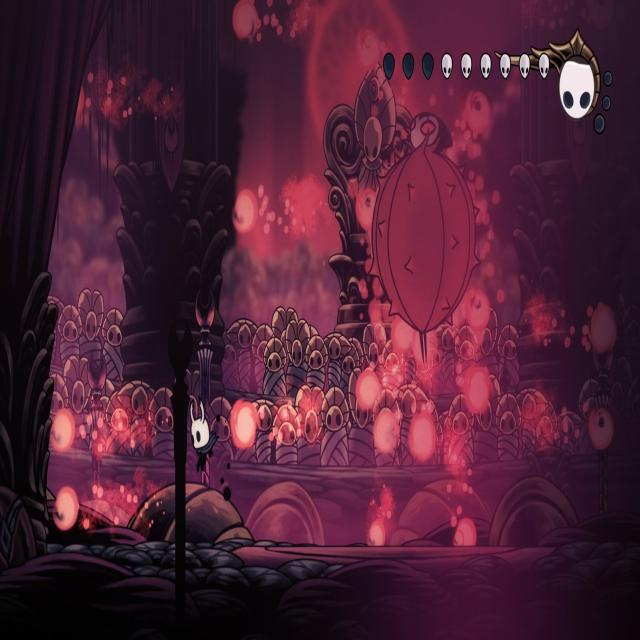Player: (188, 394, 220, 475)
Pufferfish: (366, 108, 485, 374)
Tiny Fireballs: (464, 366, 491, 416), (589, 304, 616, 354), (408, 415, 435, 464), (230, 401, 257, 449), (466, 91, 492, 139), (372, 408, 398, 455), (354, 369, 380, 415), (49, 409, 75, 452), (588, 408, 613, 452), (55, 487, 78, 531), (233, 190, 256, 233), (467, 290, 490, 332), (233, 0, 257, 40), (453, 514, 477, 547), (369, 520, 385, 546)
